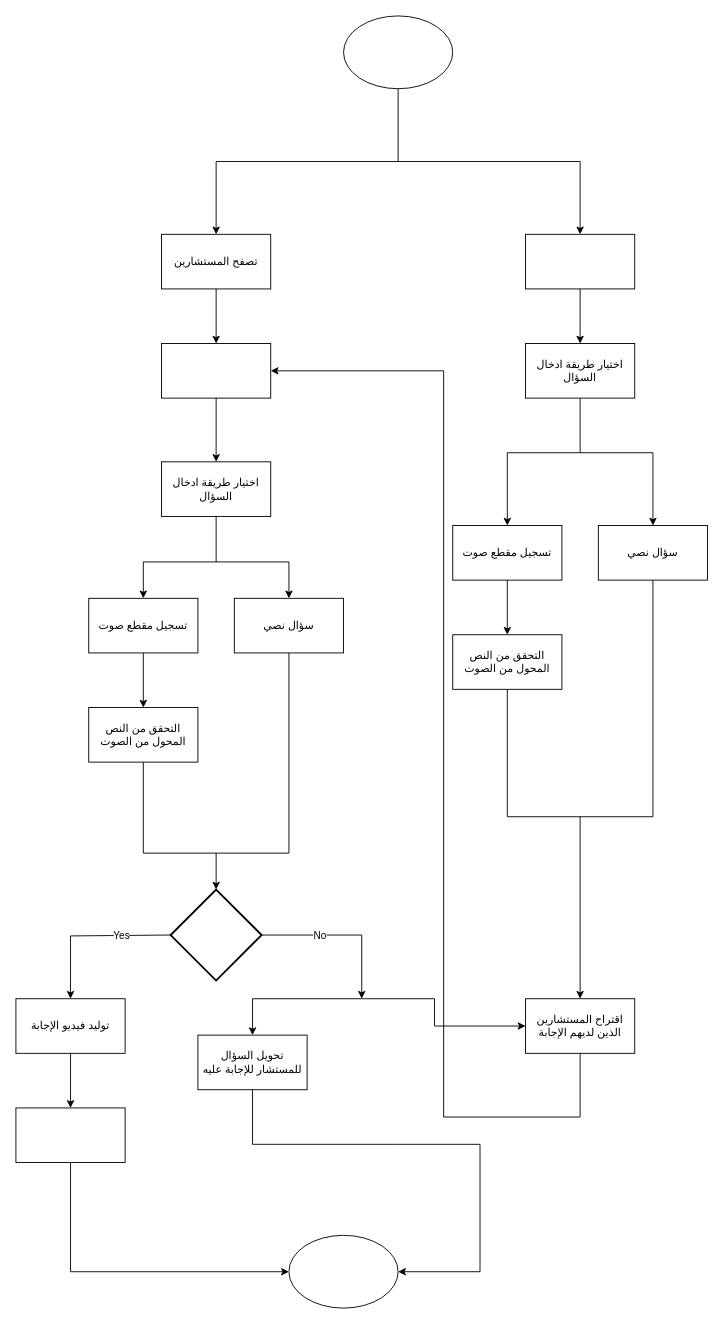
Some shapes in this 723 by 1324 pixel diagram are drawn without their labels. The centre of each missing label's shape, as x and y in pixels:
End: the point at 343,1271
Start: the point at 398,52
اختيار مستشار: the point at 216,370
الإجابة موجودة لدى المستشار؟: the point at 215,934
تقييم المستشار: the point at 70,1135
طرح سؤال عام: the point at 580,261
